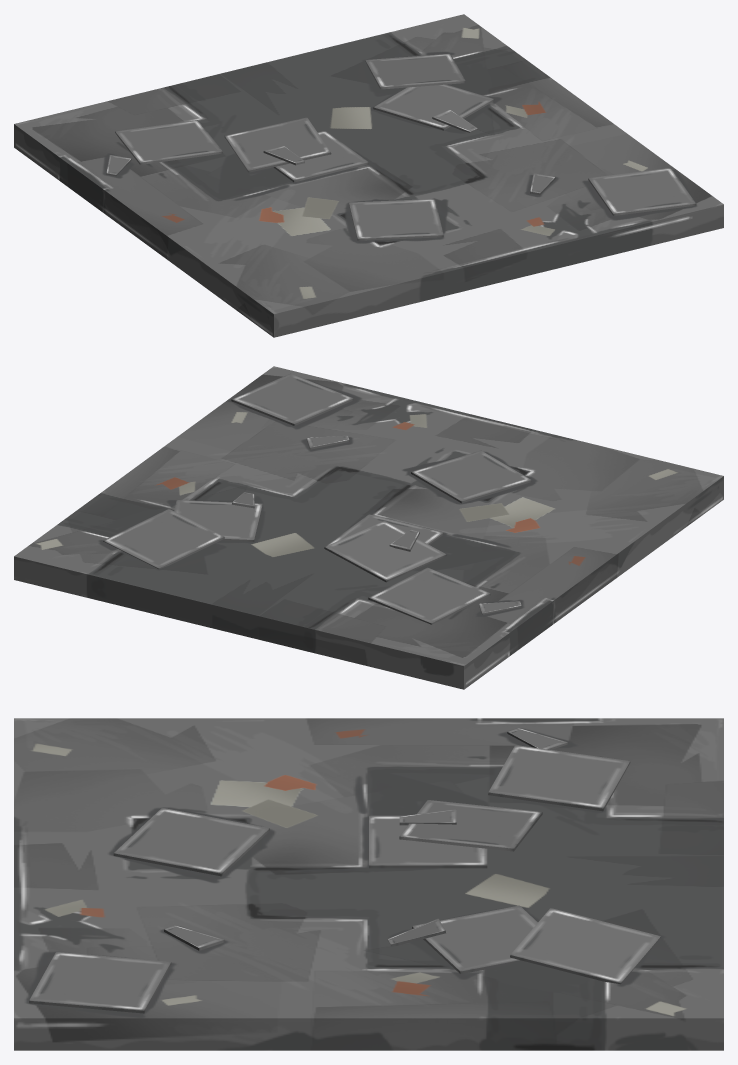
File: Floor_1.fbx
3 renders of one model, top to bottom at view 1: azimuth 30°, elevation 25°; view 2: azimuth 150°, elevation 25°; view 3: azimuth 270°, elevation 25°, orthographic. The views are drawn at different scales.
Parts seen in each view (by area): view 1: Floor_1; view 2: Floor_1; view 3: Floor_1.
Part boxes in pixels (x1,y1,x2,y2): Floor_1: (14,14,723,337); Floor_1: (14,366,723,689); Floor_1: (14,718,723,1050).
Size of the model in its own units: 2 by 0.1431 by 2.
